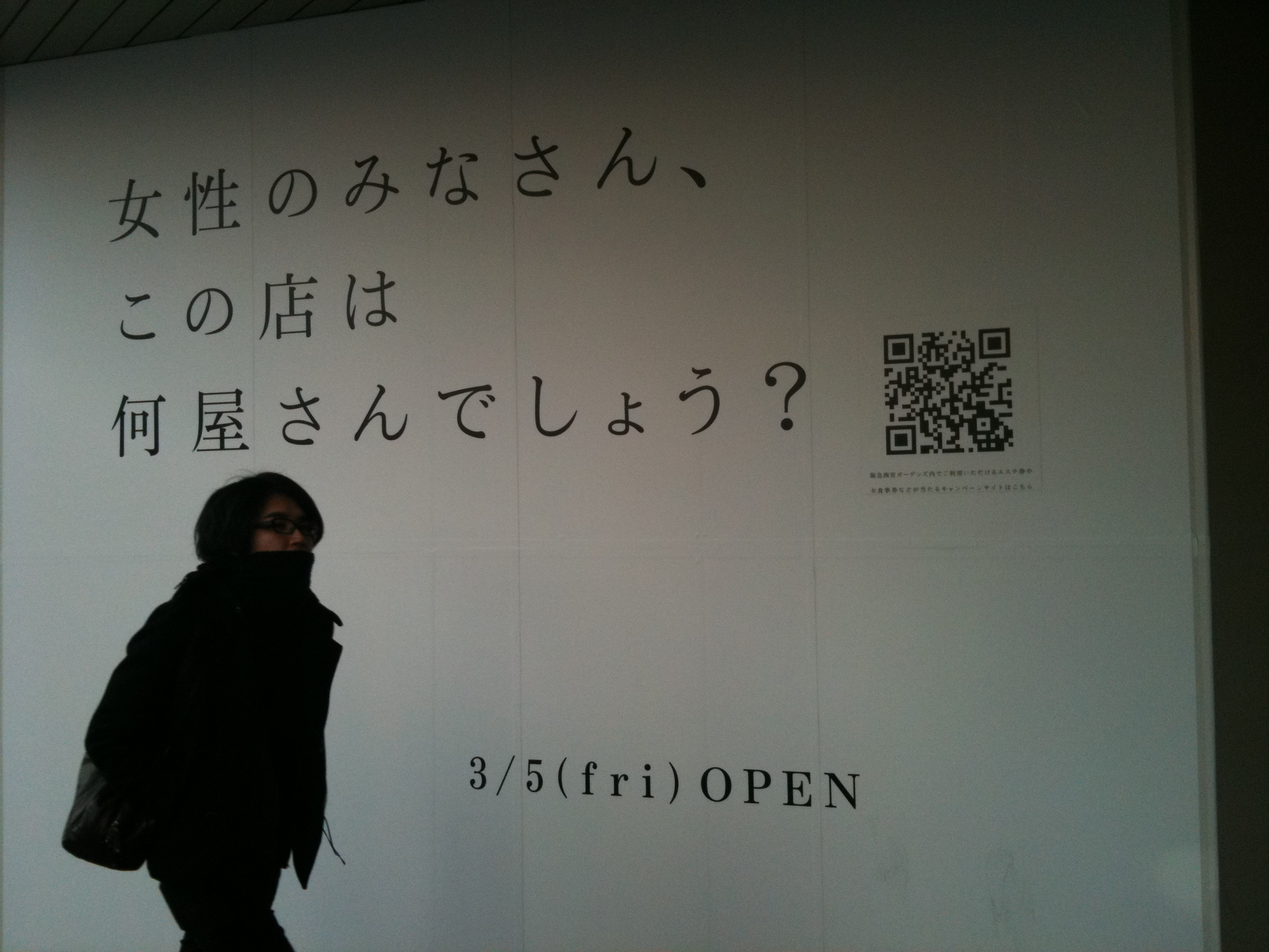QR-CODE: (884, 328, 1013, 454)
